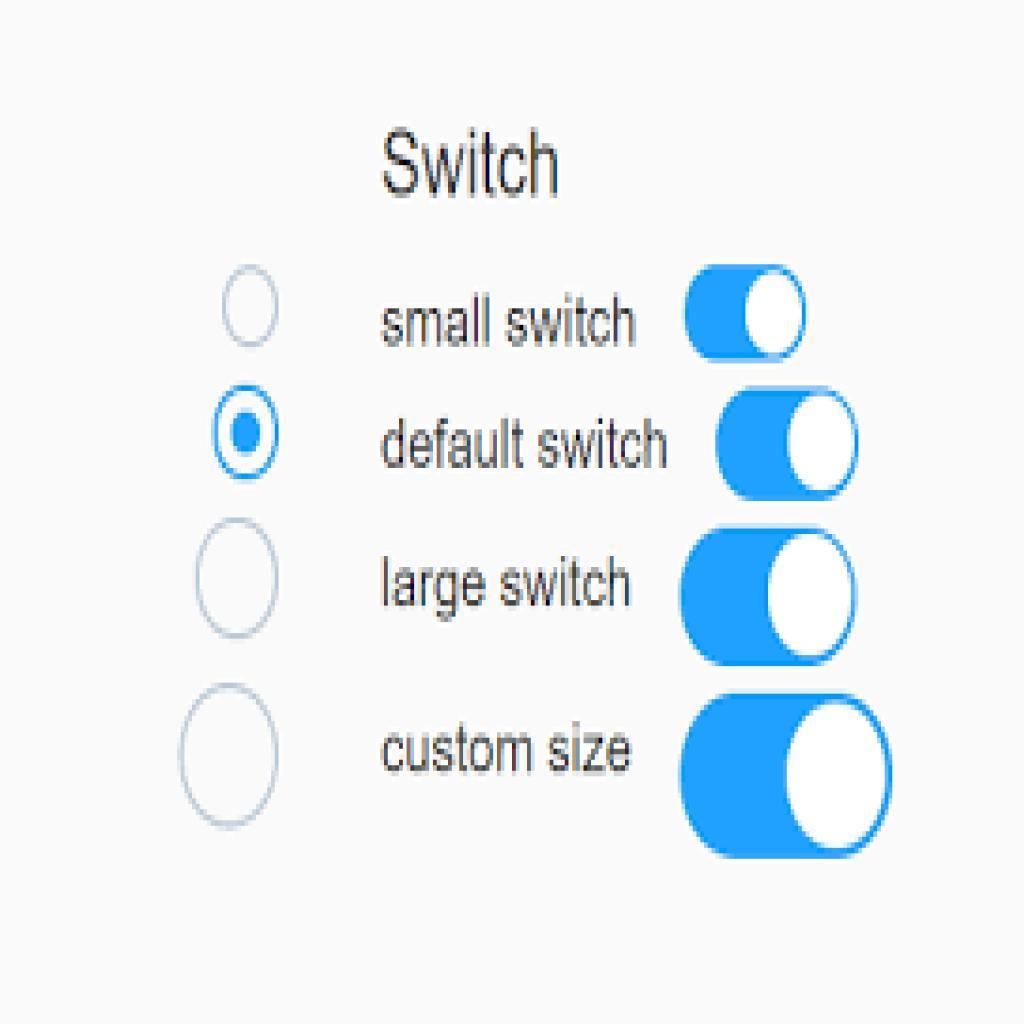radio: (180, 683, 282, 834), (195, 518, 283, 644), (207, 377, 281, 485), (218, 263, 289, 351)
switch: (680, 696, 893, 857), (682, 527, 857, 666), (719, 386, 859, 505), (688, 264, 808, 363)
